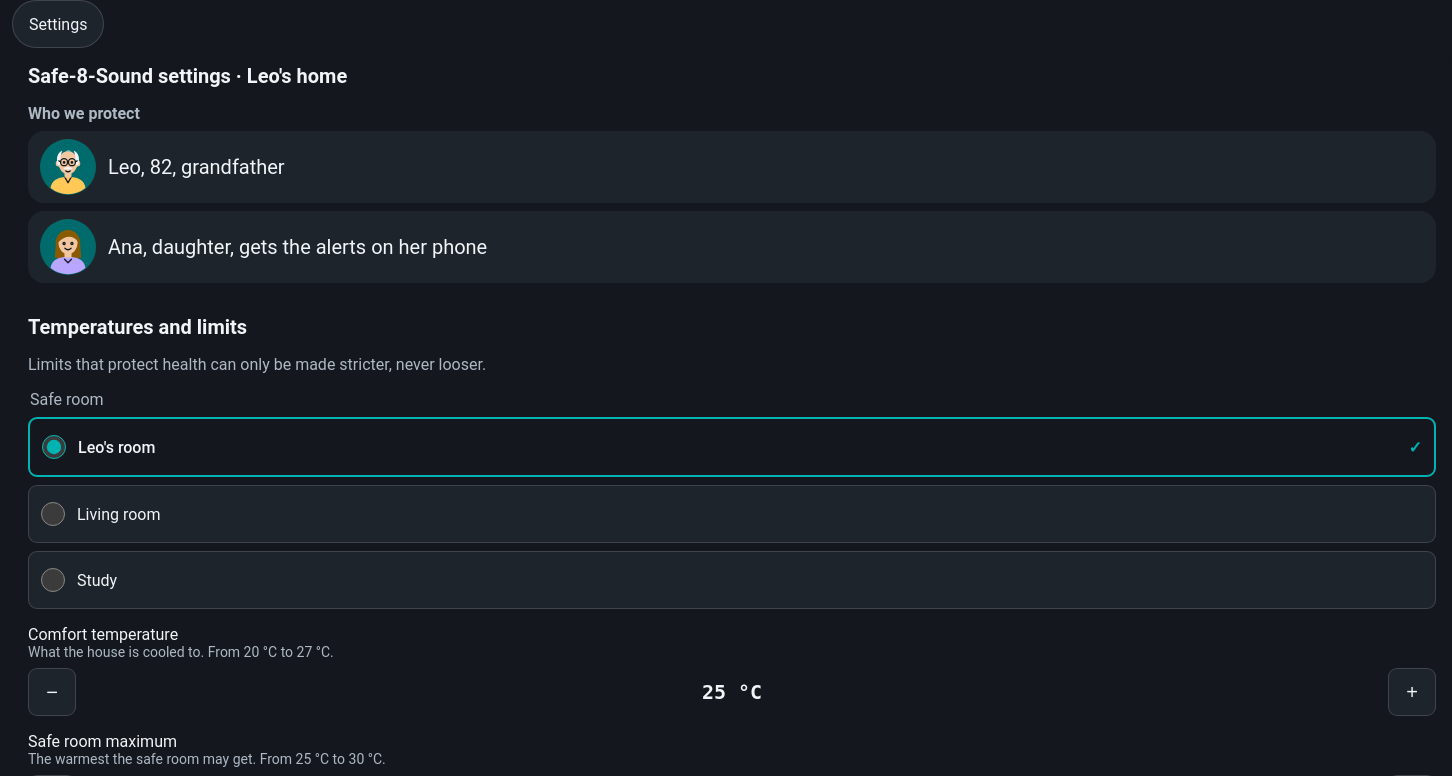
Test: Temperatures and limits section › one model for every view: a step made on Ana's phone shows on the Echo's page at once
Step 1. Click the button "Settings" → (58, 24), box [12,0,104,48]
(page scrolled)
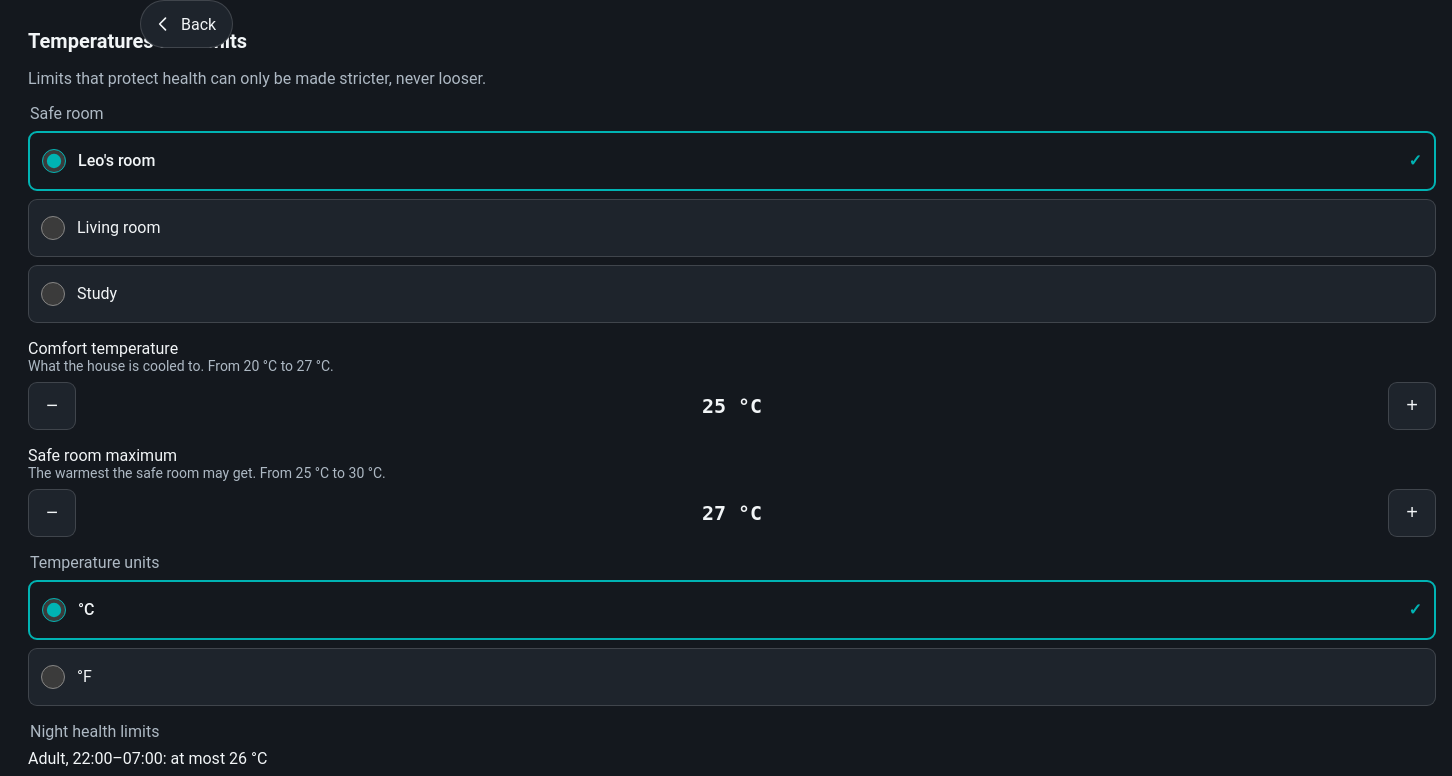
Step 2. Click the button named "Lower: Comfort temperature" → (52, 406), box [28,382,76,430]
(page scrolled)
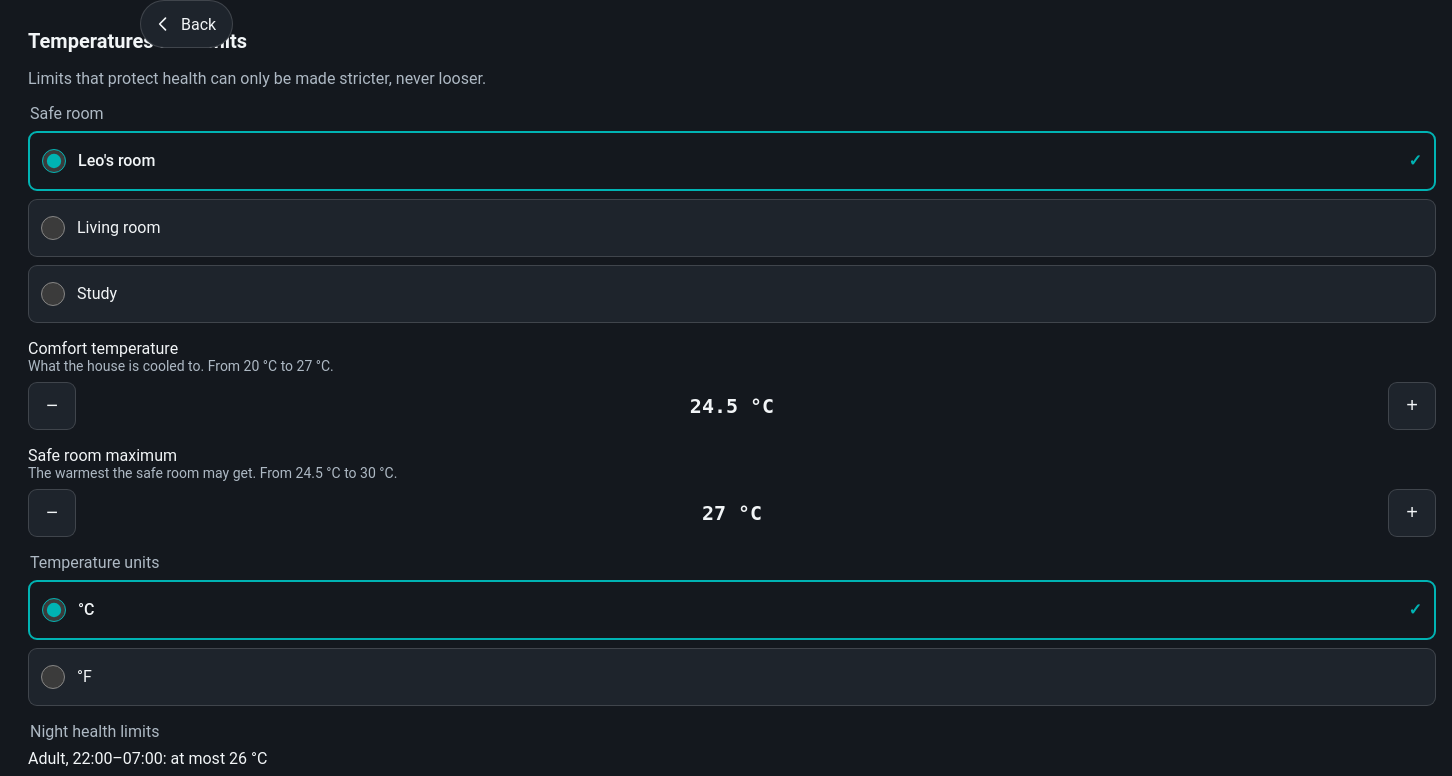
Check: the text "24.5 °C" is shown, box [690,394,774,418]
